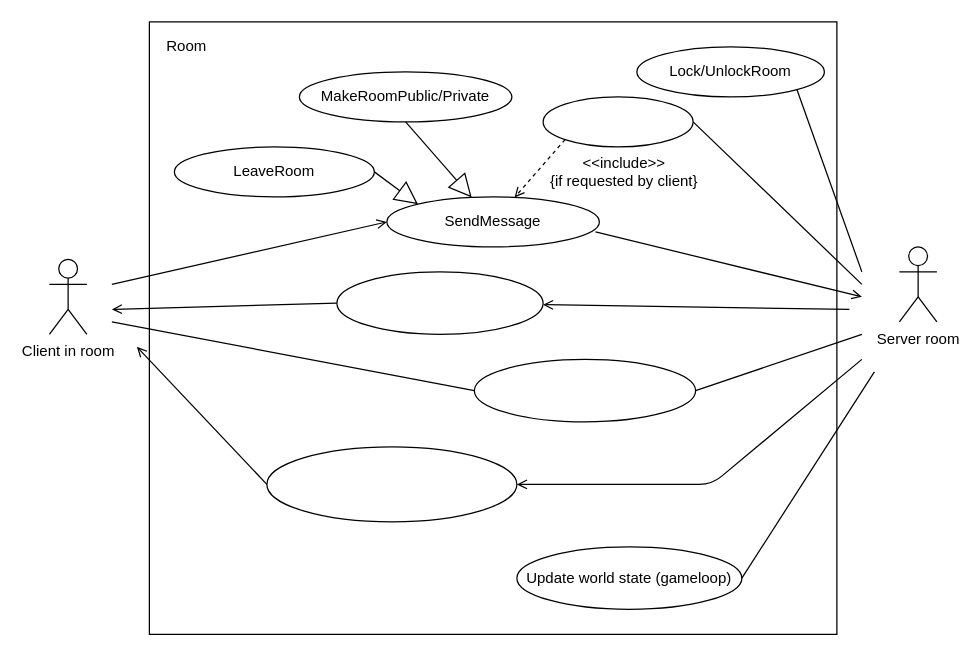
Image size: 980x656. Some labels were removed from this diagram. The shapes that lost their labels are listed below. From the top down, each one's centre as x and y in pixels, then its label:
At (617,121): "CloseRoom".
At (439,302): "ReceiveMessage".
At (584,390): "DisplayRoomProperties".
At (391,484): "Synchronize public world state between clients".
